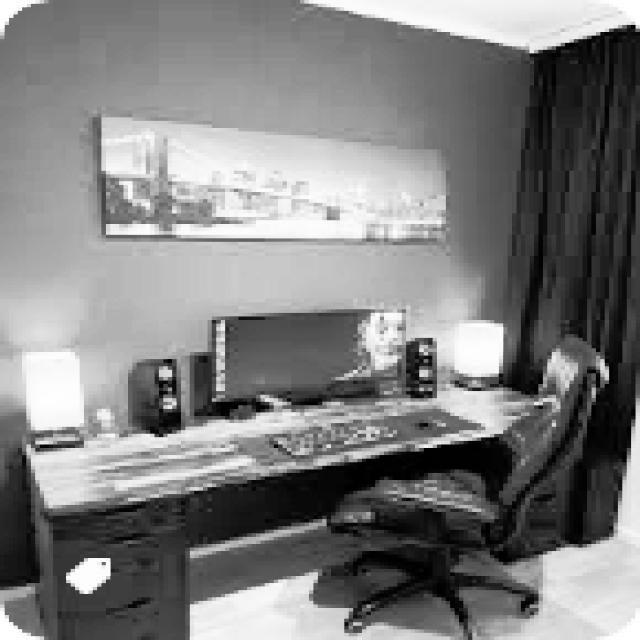book: (322, 334, 605, 636)
table: (18, 377, 547, 636)
